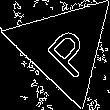P_NW: (33, 16, 96, 78)
